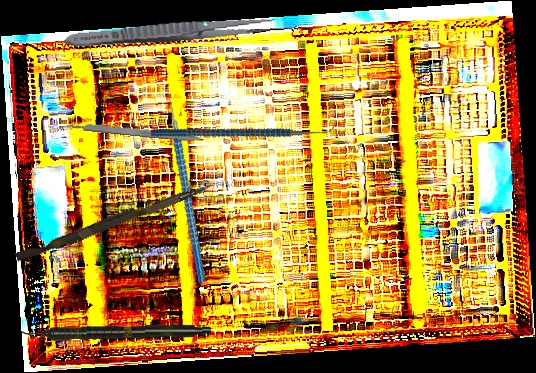Chopper: (149, 64, 342, 193), (124, 79, 236, 284)
Dressing Forceps: (62, 12, 277, 52)
Handpiece: (20, 322, 212, 342)
Pusher: (14, 175, 214, 267)
Scalpel Handle: (65, 119, 205, 144)
